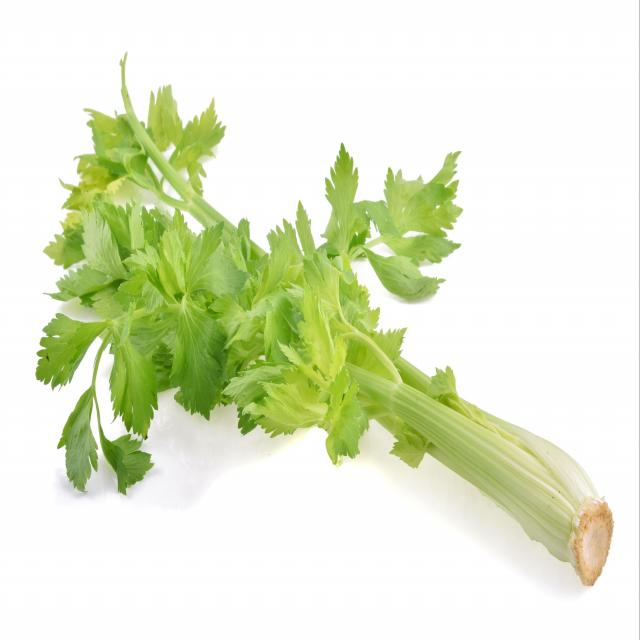celery: (33, 36, 616, 590)
